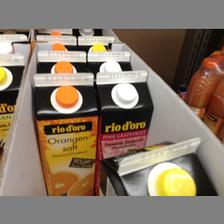Saft: (31, 70, 94, 194), (94, 68, 154, 160)
